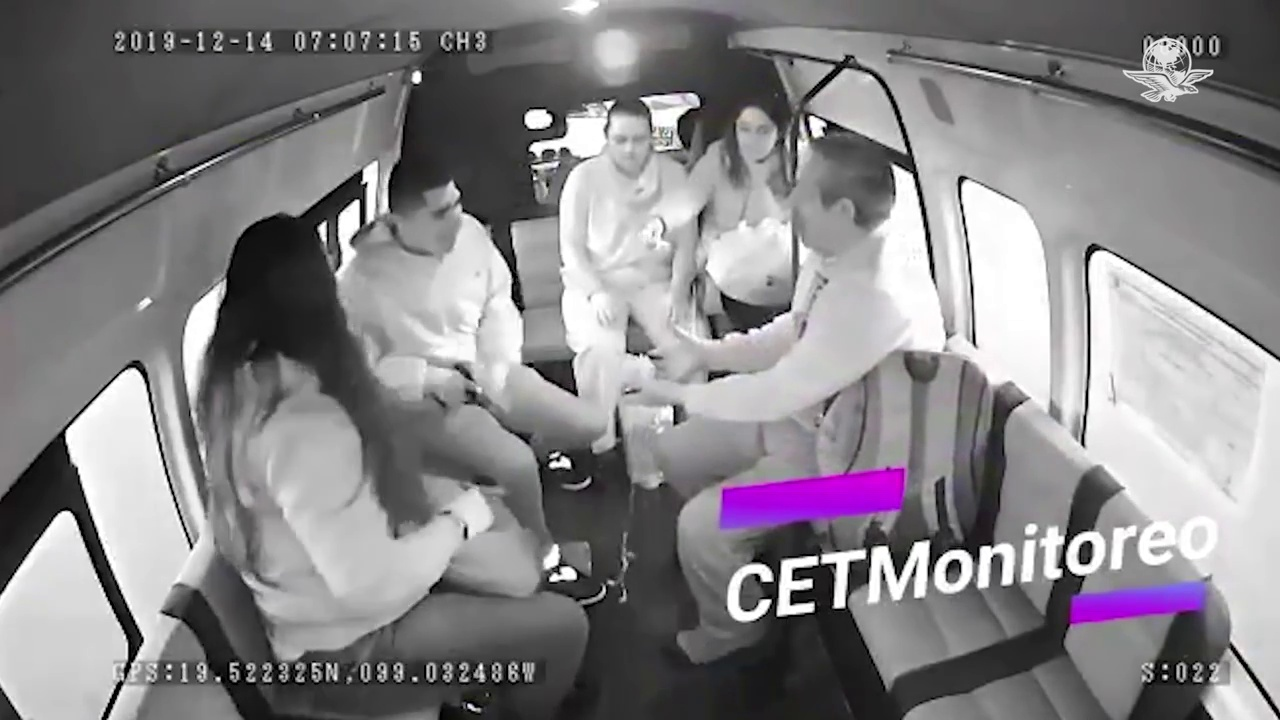pistol: (432, 363, 502, 410)
